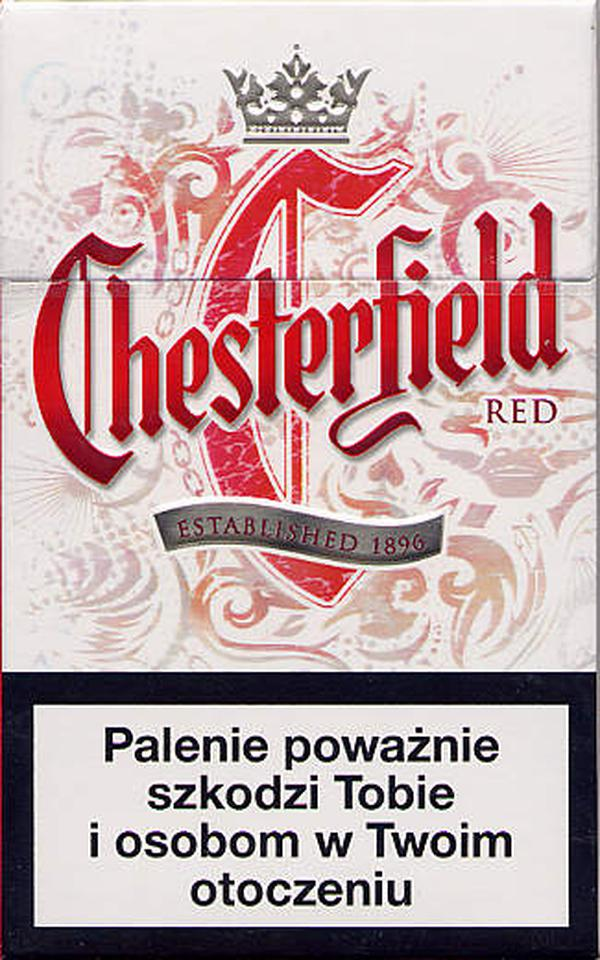chesterfield_red: (1, 8, 600, 959)
